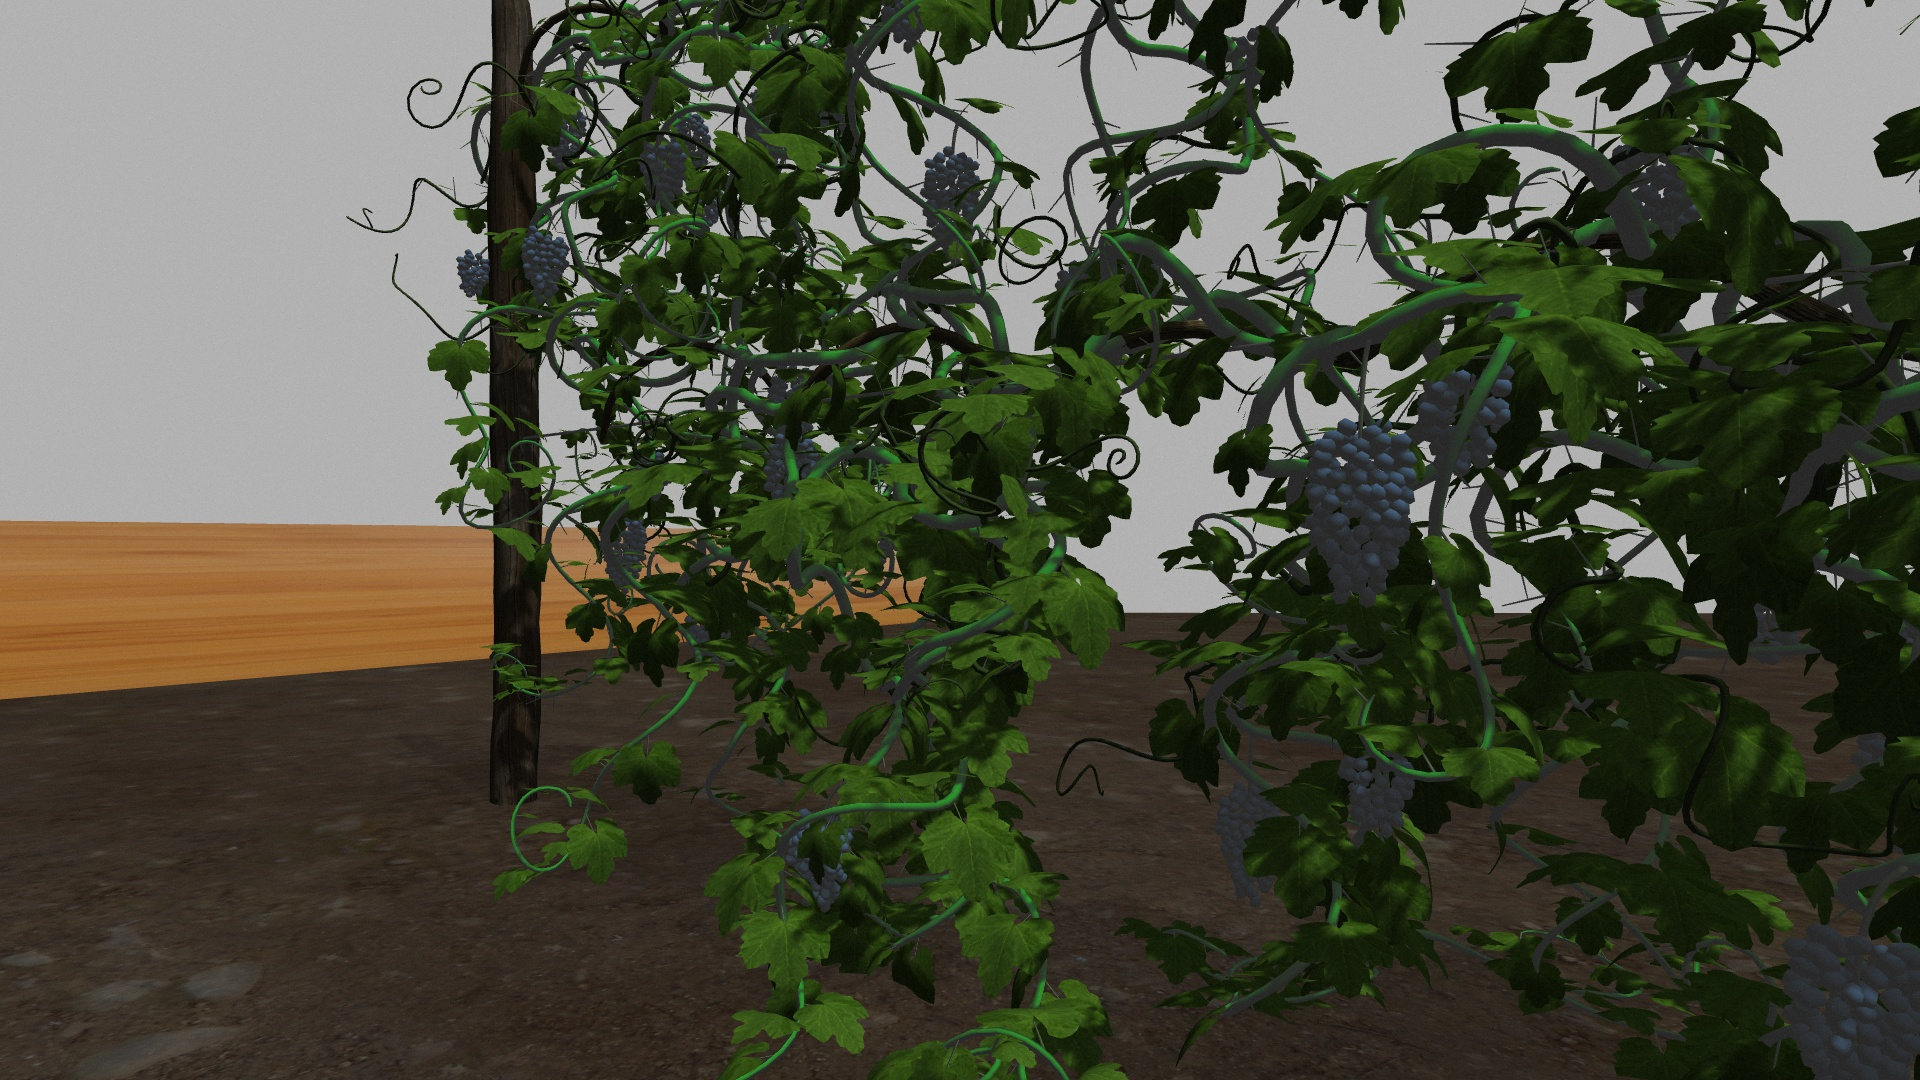grape: (1771, 923, 1916, 1076), (1305, 419, 1418, 608), (1418, 357, 1515, 479), (1213, 782, 1292, 907), (1336, 746, 1416, 847), (786, 810, 853, 915), (920, 146, 981, 244), (520, 227, 568, 302), (599, 516, 647, 591), (641, 141, 687, 212), (673, 115, 712, 171), (455, 249, 489, 298)
